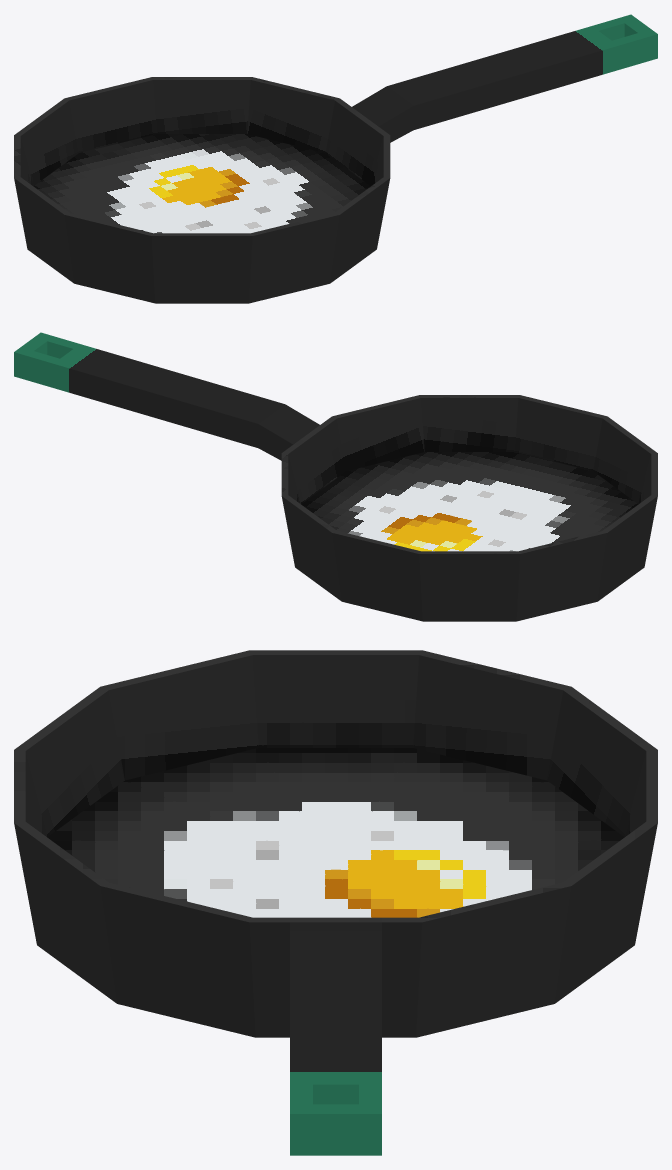
The picture shows the model from 3 angles, top to bottom: view 1: azimuth 30°, elevation 25°; view 2: azimuth 150°, elevation 25°; view 3: azimuth 270°, elevation 25°; orthographic projection. The views are drawn at different scales.
Visible parts, largest first — view 1: cylinder_0, cuboid_1; view 2: cylinder_0, cuboid_1; view 3: cylinder_0, cuboid_1.
Part boxes in pixels (x1=…): cylinder_0: x1=14, y1=77, x2=390, y2=303; cuboid_1: x1=352, y1=14, x2=657, y2=142; cylinder_0: x1=281, y1=395, x2=657, y2=621; cuboid_1: x1=14, y1=332, x2=319, y2=460; cylinder_0: x1=14, y1=650, x2=657, y2=1037; cuboid_1: x1=290, y1=922, x2=381, y2=1155.
Bounding box in the file's own units: 3.25 × 0.5 × 1.75.
1 material, 1 textured.
